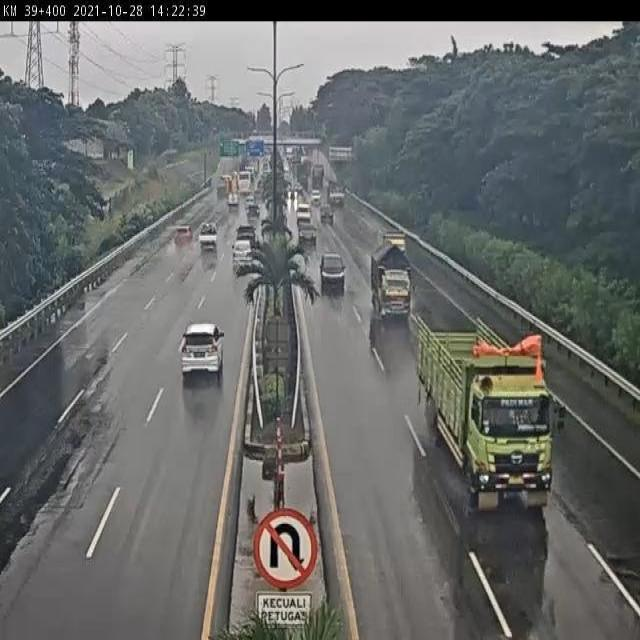Car: (177, 314, 229, 382), (319, 253, 346, 295), (232, 238, 253, 270), (198, 222, 218, 250), (235, 225, 257, 249), (298, 225, 317, 249), (173, 224, 192, 247), (296, 201, 311, 224), (246, 199, 260, 219), (320, 204, 334, 224), (328, 191, 344, 207), (227, 192, 239, 208), (311, 190, 321, 204)
Truck: (413, 319, 562, 526), (369, 227, 426, 328)
